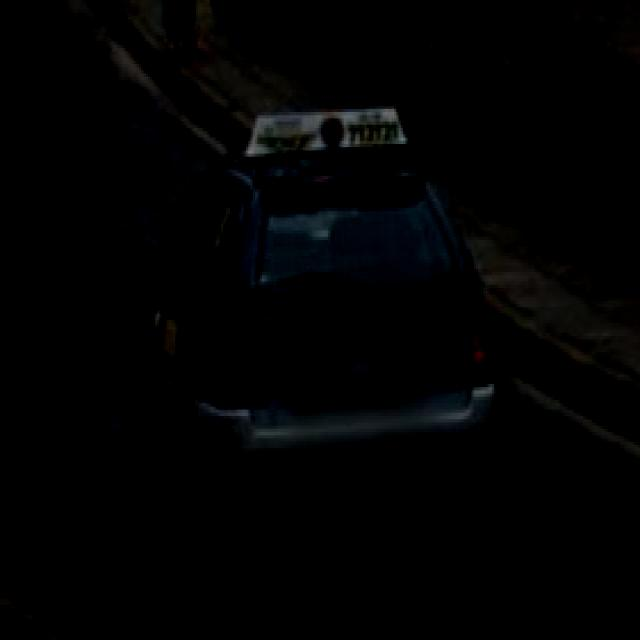car: (105, 84, 508, 563)
